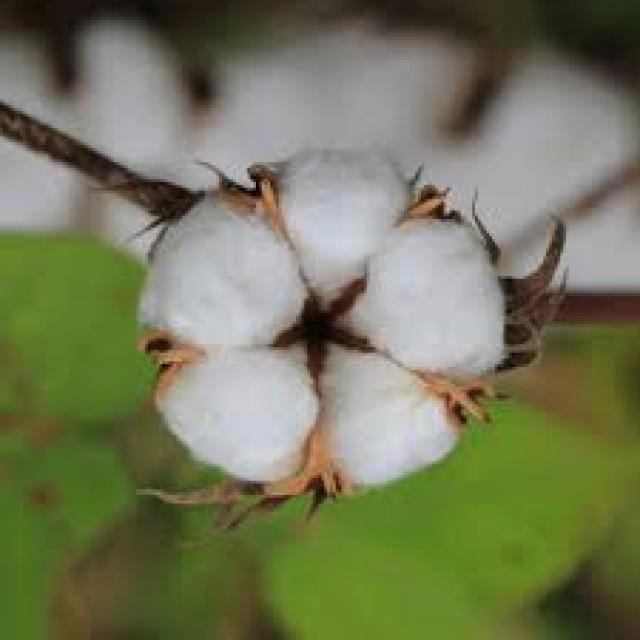Matured Cotton Boll: (131, 151, 517, 509)
